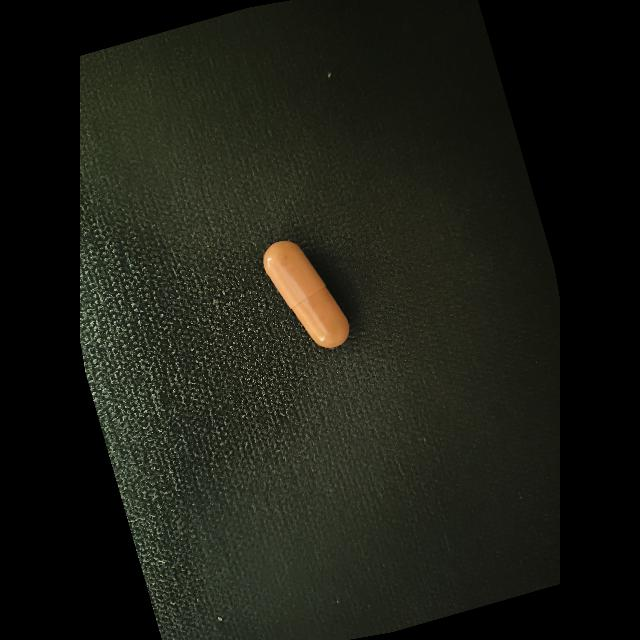Intact Capsule: (263, 241, 349, 348)
